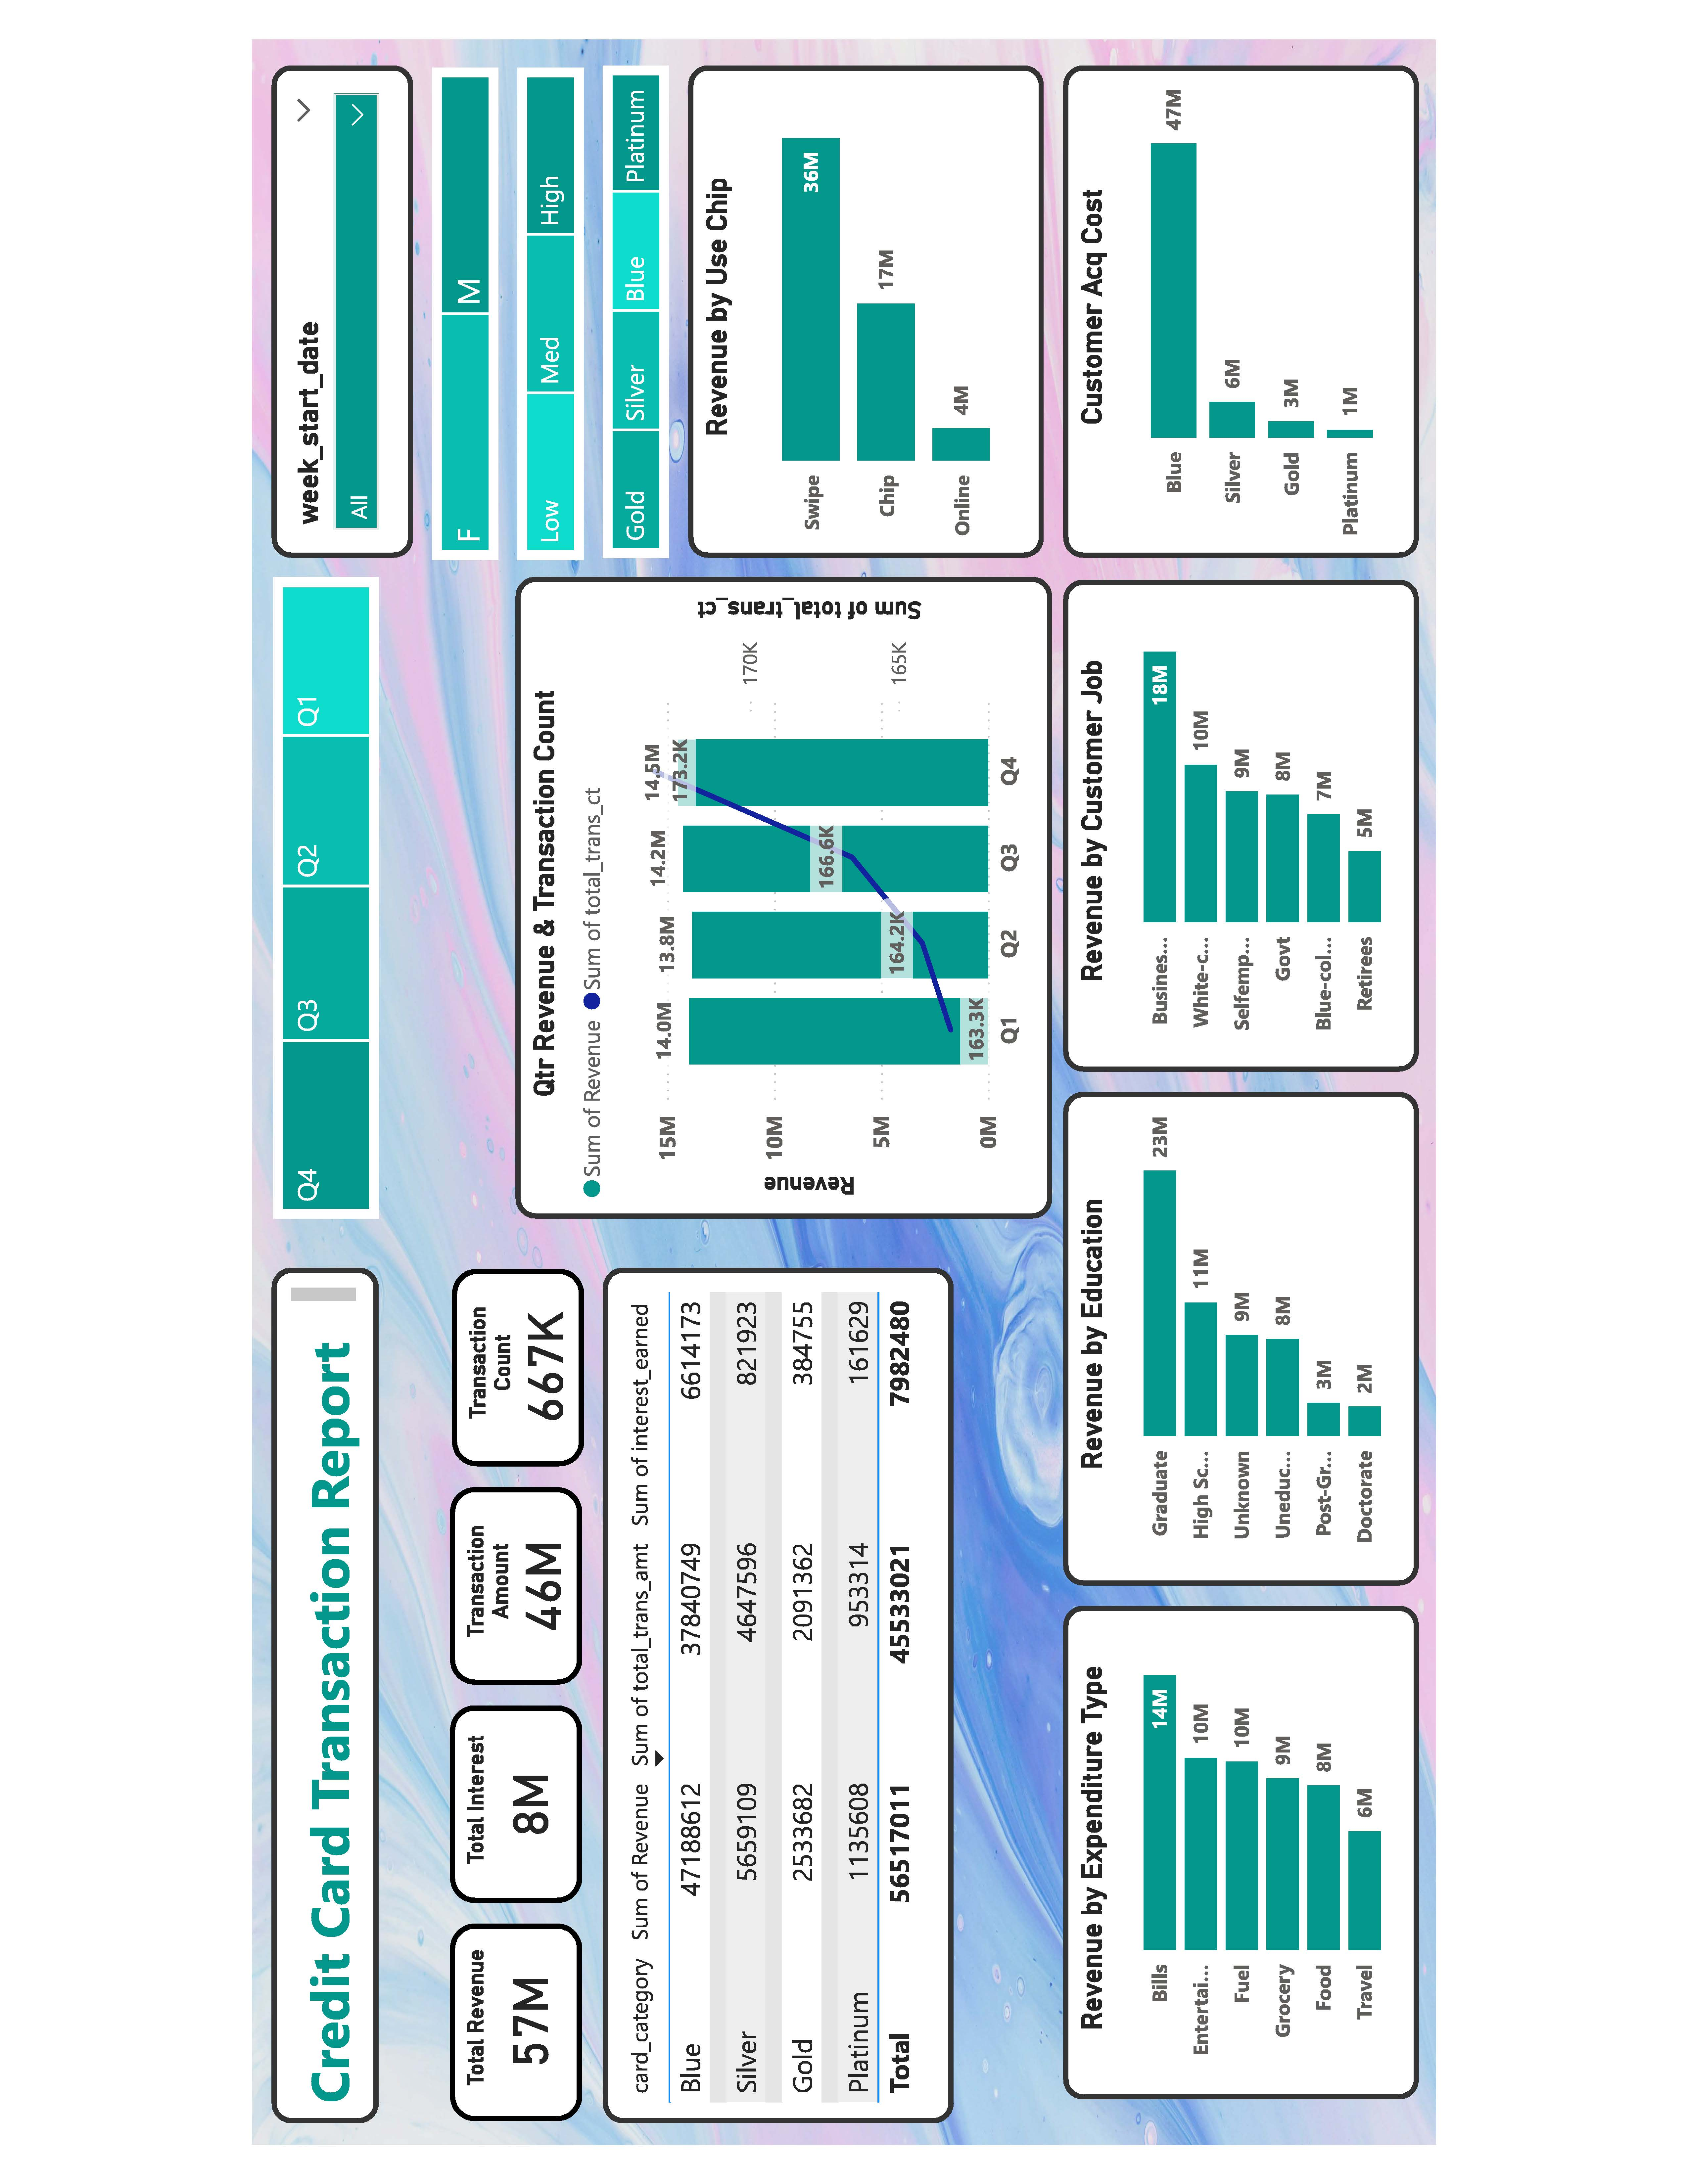

Layout of this report page (visuals, bound fields, positions):
{"tool":"powerbi","page":{"name":"CC_Transaction","canvas":[1280,720],"ordinal":0},"visuals":[{"type":"textbox","box":[13.1,11.6,520.4,65.4],"z":0},{"type":"lineStackedColumnComboChart","title":"Qtr Revenue & Transaction Count","fields":{"Category":["public cc_detail.qtr"],"Y":["Sum(public cc_detail.Revenue)"],"Y2":["Sum(public cc_detail.total_trans_ct)"]},"box":[563.3,160.3,389.6,325.7],"z":1000},{"type":"barChart","title":"Revenue by Expenditure Type","fields":{"Y":["Sum(public cc_detail.Revenue)"],"Category":["public cc_detail.exp_type"]},"box":[27.4,493.7,300,215.6],"z":2000},{"type":"barChart","title":"Revenue by Education","fields":{"Y":["Sum(public cc_detail.Revenue)"],"Category":["public cust_detail.education_level"]},"box":[340.2,493.6,300,215.6],"z":3000},{"type":"barChart","title":"Revenue by Customer Job","fields":{"Y":["Sum(public cc_detail.Revenue)"],"Category":["public cust_detail.customer_job"]},"box":[653,493.5,298.9,215.6],"z":4000},{"type":"barChart","title":"Customer Acq Cost","fields":{"Y":["Sum(public cc_detail.Revenue)"],"Category":["public cc_detail.card_category"]},"box":[964.8,493.4,298.9,215.6],"z":5000},{"type":"barChart","title":"Revenue by Use Chip","fields":{"Y":["Sum(public cc_detail.Revenue)"],"Category":["public cc_detail.use_chip"]},"box":[964.8,265.9,298.9,215.6],"z":6000},{"type":"tableEx","fields":{"Values":["public cc_detail.card_category","Sum(public cc_detail.Revenue)","Sum(public cc_detail.total_trans_amt)","Sum(public cc_detail.interest_earned)"]},"box":[13.4,214.1,520.4,212.6],"z":7000},{"type":"card","title":"Total Revenue","fields":{"Values":["Sum(public cc_detail.Revenue)"]},"box":[14.6,120.1,120,80],"z":8000},{"type":"card","title":"Total Interest","fields":{"Values":["Sum(public cc_detail.interest_earned)"]},"box":[147.4,120.1,120,80],"z":9000},{"type":"card","title":"Transaction Amount","fields":{"Values":["Sum(public cc_detail.total_trans_amt)"]},"box":[280.2,120.1,120,80],"z":10000},{"type":"card","title":"Transaction Count","fields":{"Values":["Sum(public cc_detail.total_trans_ct)"]},"box":[413.1,121.6,120.4,80.3],"z":11000},{"type":"slicer","fields":{"Values":["public cc_detail.week_start_date"]},"box":[964.8,11.6,298.9,86.2],"z":12000},{"type":"treemap","fields":{"Group":["public cc_detail.qtr"],"Values":["Avg(public cc_detail.client_num)"]},"box":[563.3,13.1,389.6,63.9],"z":13000},{"type":"treemap","fields":{"Group":["public cust_detail.gender"],"Values":["Avg(public cc_detail.client_num)"]},"box":[963.6,109.7,298.9,40.1],"z":14000},{"type":"treemap","fields":{"Group":["public cc_detail.card_category"],"Values":["Avg(public cc_detail.client_num)"]},"box":[965.1,213.8,298.9,40.1],"z":15000},{"type":"treemap","fields":{"Group":["public cust_detail.IncomeGroup"],"Values":["Avg(public cc_detail.client_num)"]},"box":[963.6,161.8,298.9,40.1],"z":16000}]}

Visuals, with their boxes on the page's 1280x720 design canvas (x1, y1, x2, y2). These are canvas units, not pixel positions in the 1688x2184 screenshot, which may show the page scaled, cropped or inside an application window:
textbox: 13 12 534 77
"Qtr Revenue & Transaction Count" lineStackedColumnComboChart: 563 160 953 486
"Revenue by Expenditure Type" barChart: 27 494 327 709
"Revenue by Education" barChart: 340 494 640 709
"Revenue by Customer Job" barChart: 653 494 952 709
"Customer Acq Cost" barChart: 965 493 1264 709
"Revenue by Use Chip" barChart: 965 266 1264 482
tableEx - public cc_detail.card_category x Sum(public cc_detail.Revenue): 13 214 534 427
"Total Revenue" card: 15 120 135 200
"Total Interest" card: 147 120 267 200
"Transaction Amount" card: 280 120 400 200
"Transaction Count" card: 413 122 534 202
slicer - public cc_detail.week_start_date: 965 12 1264 98
treemap - public cc_detail.qtr x Avg(public cc_detail.client_num): 563 13 953 77
treemap - public cust_detail.gender x Avg(public cc_detail.client_num): 964 110 1262 150
treemap - public cc_detail.card_category x Avg(public cc_detail.client_num): 965 214 1264 254
treemap - public cust_detail.IncomeGroup x Avg(public cc_detail.client_num): 964 162 1262 202
